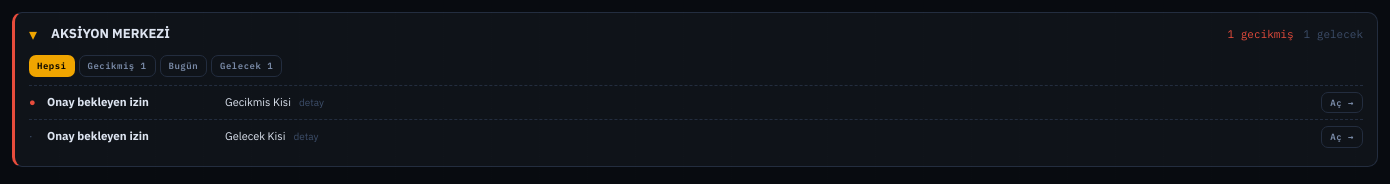
it: Aksiyon merkezi › zaman dilimine göre süzer
Expected: the text "Gecikmis Kisi" is shown, left=225, top=94, right=291, bottom=110
Click the button "Gecikmiş 1".
click(117, 66)  # box left=78, top=55, right=156, bottom=76
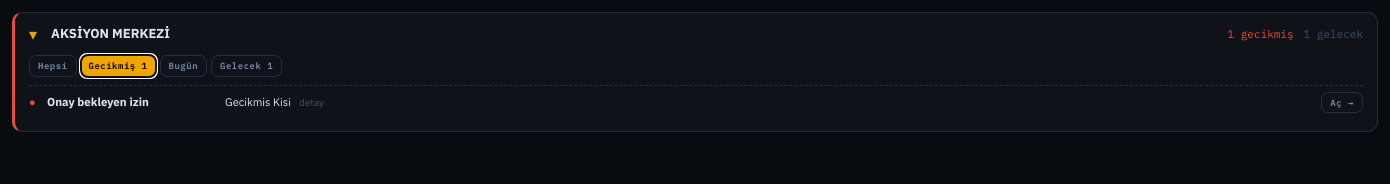
Expected: the text "Gecikmis Kisi" is shown, left=225, top=94, right=291, bottom=110
Result: the text "Gelecek Kisi" is gone
